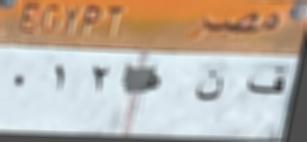0: (10, 68, 28, 93)
1: (48, 62, 73, 96)
2: (90, 60, 115, 96)
faa: (242, 61, 289, 102)
noon: (192, 70, 228, 106)
